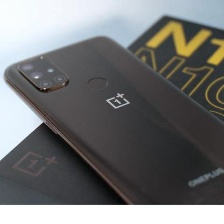book: (0, 9, 224, 224)
phone: (2, 29, 223, 224)
